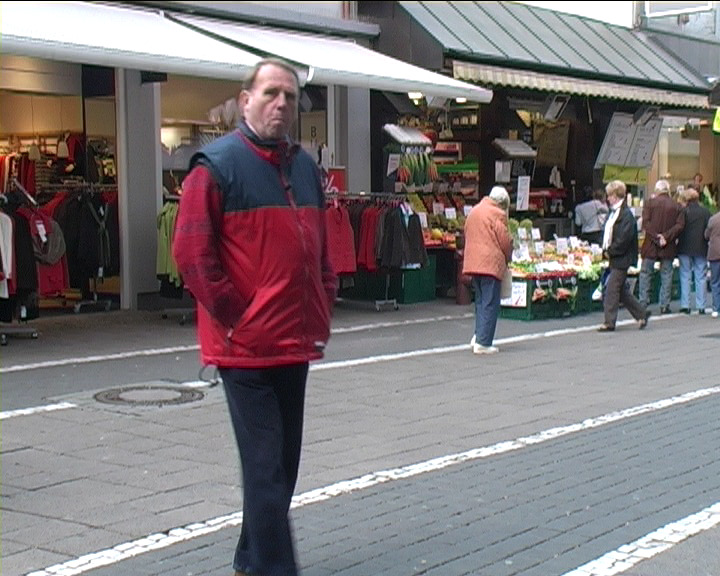deflection: (205, 64, 322, 205)
